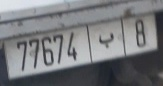4: (66, 32, 78, 61)
6: (41, 35, 56, 68)
7: (15, 41, 28, 72), (28, 37, 40, 70), (54, 34, 66, 65)
8: (133, 18, 148, 48)
b: (97, 31, 116, 49)
